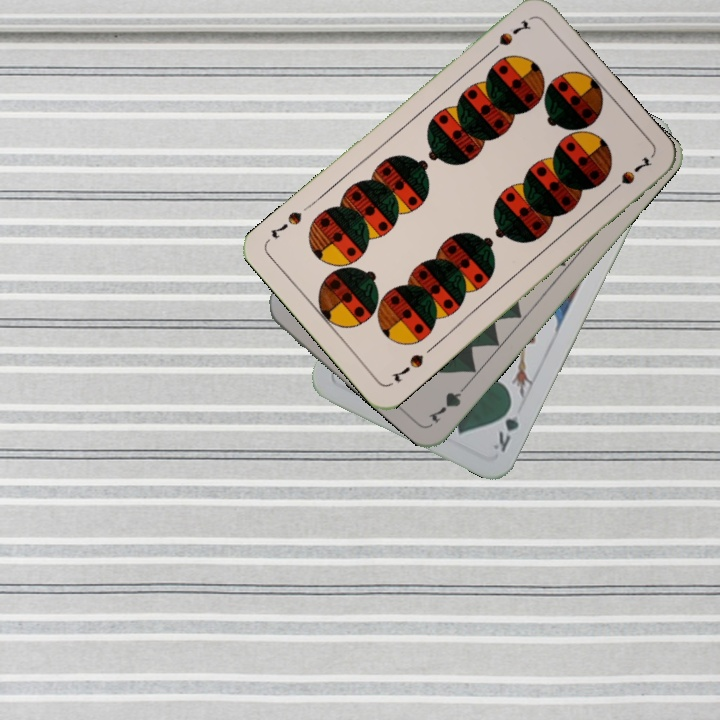G7: (425, 377, 473, 427)
GK: (489, 398, 522, 455)
S7: (484, 15, 533, 57), (386, 349, 426, 385)
